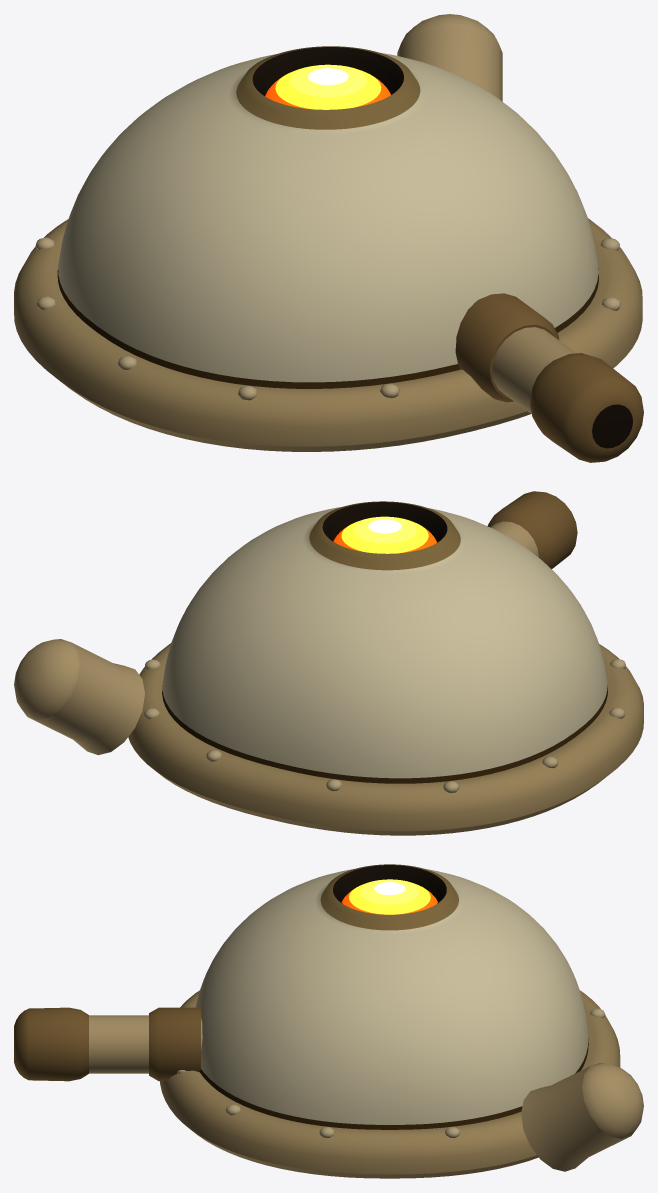
File: disc_turret_41.glb
3 renders of one model, top to bottom at view 1: azimuth 30°, elevation 25°; view 2: azimuth 150°, elevation 25°; view 3: azimuth 270°, elevation 25°, orthographic. The views are drawn at different scales.
Visible parts, largest first — view 1: dome, ring, muzzle, knob, collar, eye, barrel; view 2: dome, ring, knob, muzzle, eye, barrel; view 3: dome, ring, knob, muzzle, barrel, collar, eye.
Part boxes in pixels (x1=…): dome: x1=57, y1=46, x2=598, y2=388; ring: x1=14, y1=218, x2=642, y2=451; muzzle: x1=530, y1=353, x2=643, y2=462; knob: x1=397, y1=14, x2=502, y2=101; collar: x1=455, y1=293, x2=558, y2=402; eye: x1=265, y1=64, x2=390, y2=109; barrel: x1=492, y1=327, x2=576, y2=413; dome: x1=162, y1=501, x2=607, y2=783; ring: x1=128, y1=643, x2=643, y2=835; knob: x1=14, y1=639, x2=144, y2=755; muzzle: x1=487, y1=491, x2=577, y2=568; eye: x1=333, y1=516, x2=436, y2=553; barrel: x1=490, y1=521, x2=538, y2=557; dome: x1=195, y1=864, x2=588, y2=1129; ring: x1=160, y1=990, x2=620, y2=1178; knob: x1=521, y1=1063, x2=643, y2=1171; muzzle: x1=14, y1=1007, x2=88, y2=1081; barrel: x1=89, y1=1015, x2=202, y2=1073; collar: x1=149, y1=1007, x2=200, y2=1081; eye: x1=341, y1=879, x2=437, y2=914.
Bounding box in the file's own units: 18.22 × 7.61 × 22.42.
